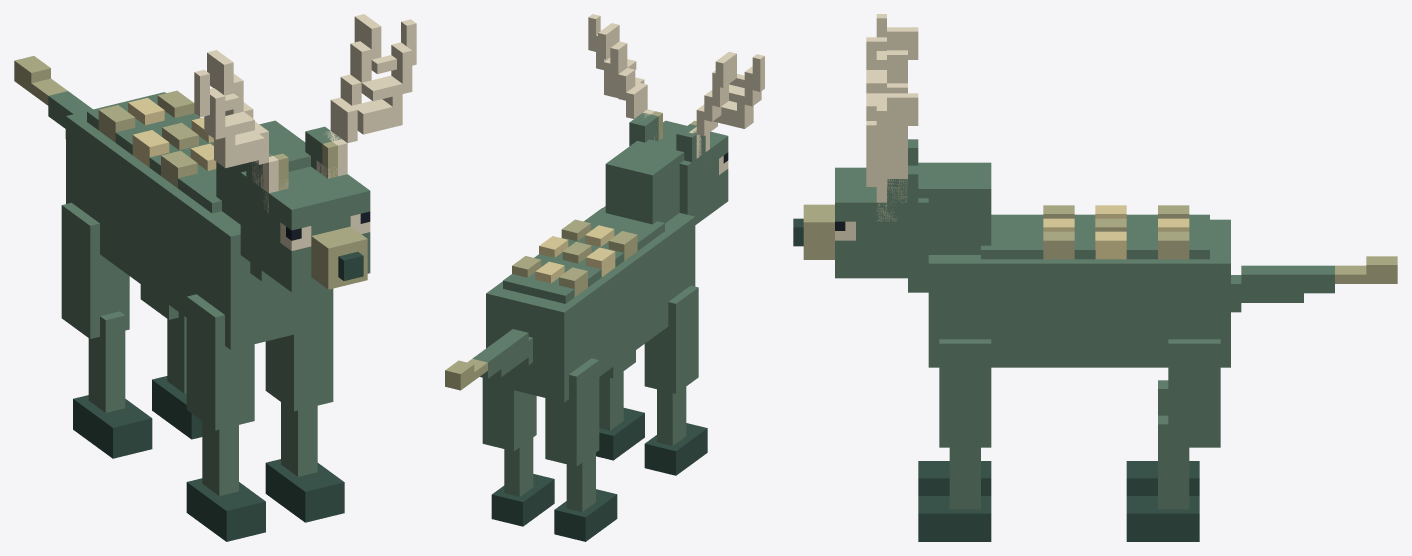
File: moss_deer.glb
3 renders of one model, left to right at view 1: azimuth 30°, elevation 25°; view 2: azimuth 150°, elevation 25°; view 3: azimuth 270°, elevation 25°, orthographic. The views are drawn at different scales.
Visible parts, largest first — view 1: moss_deer/thorax, moss_deer/head, moss_deer/left_hindleg, moss_deer/left_foreleg, moss_deer/right_foreleg, moss_deer/antler_1, moss_deer/antler_-1, moss_deer/right_hindleg, moss_deer/neck, moss_deer/tail, moss_deer/head_ear_r, moss_deer/head_ear_l; view 2: moss_deer/thorax, moss_deer/left_hindleg, moss_deer/left_foreleg, moss_deer/right_hindleg, moss_deer/neck, moss_deer/antler_-1, moss_deer/head, moss_deer/antler_1, moss_deer/right_foreleg, moss_deer/tail, moss_deer/head_ear_r, moss_deer/head_ear_l; view 3: moss_deer/thorax, moss_deer/right_hindleg, moss_deer/right_foreleg, moss_deer/head, moss_deer/neck, moss_deer/tail, moss_deer/antler_1, moss_deer/antler_-1, moss_deer/left_hindleg, moss_deer/left_foreleg, moss_deer/head_ear_r.
Part boxes in pixels (x1,y1,x2,y2): moss_deer/thorax: (66,90,328,349); moss_deer/head: (240,166,370,292); moss_deer/left_hindleg: (61,202,152,458); moss_deer/left_foreleg: (186,294,265,541); moss_deer/right_foreleg: (265,288,344,522); moss_deer/antler_1: (316,14,416,178); moss_deer/antler_-1: (194,50,288,213); moss_deer/right_hindleg: (140,284,202,439); moss_deer/neck: (216,120,310,281); moss_deer/tail: (14,56,92,138); moss_deer/head_ear_r: (305,126,341,178); moss_deer/head_ear_l: (246,143,288,197); moss_deer/thorax: (486,206,695,402); moss_deer/left_hindleg: (545,358,617,541); moss_deer/left_foreleg: (644,285,707,475); moss_deer/right_hindleg: (482,378,554,526); moss_deer/neck: (605,139,684,224); moss_deer/antler_-1: (689,51,764,158); moss_deer/head: (658,120,728,224); moss_deer/antler_1: (588,14,662,139); moss_deer/right_foreleg: (596,350,644,460); moss_deer/tail: (445,329,532,390); moss_deer/head_ear_r: (629,111,662,146); moss_deer/head_ear_l: (676,120,705,162); moss_deer/thorax: (928,205,1230,367); moss_deer/right_hindleg: (1126,339,1220,541); moss_deer/right_foreleg: (918,339,991,541); moss_deer/head: (793,167,928,278); moss_deer/neck: (908,162,991,292); moss_deer/tail: (1231,256,1397,312); moss_deer/antler_1: (866,93,918,221); moss_deer/antler_-1: (866,14,918,120); moss_deer/left_hindleg: (1126,380,1199,495); moss_deer/left_foreleg: (918,461,991,495); moss_deer/head_ear_r: (887,165,918,212).
Bounding box in the file's own units: 0.6875 × 1.5 × 1.81.
